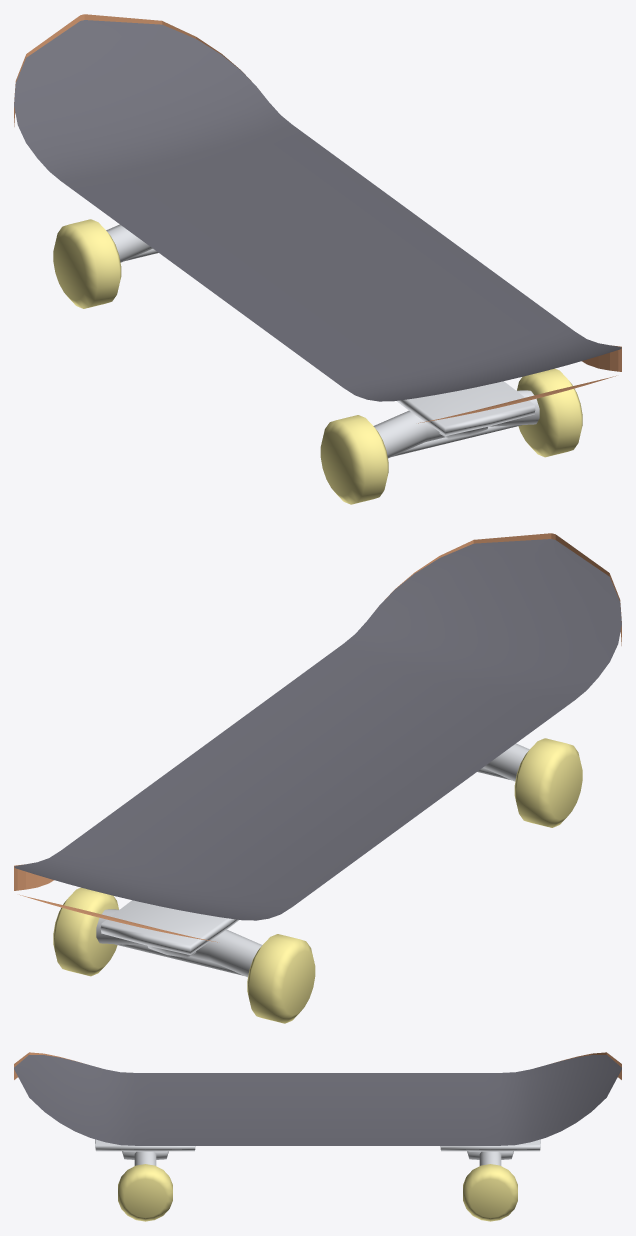
File: SkateBoard.glb
3 views of the same model, one above another, from view 1: azimuth 30°, elevation 25°; view 2: azimuth 150°, elevation 25°; view 3: azimuth 270°, elevation 25° (orthographic). The views are drawn at different scales.
Parts seen in each view (by area): view 1: Grip, Wheels, Trucks, Deck; view 2: Grip, Wheels, Trucks, Deck; view 3: Grip, Wheels, Trucks, Deck.
Part boxes in pixels (x1,y1,x2,y2): Grip: [14, 20, 621, 401]; Wheels: [53, 219, 582, 504]; Trucks: [106, 224, 539, 458]; Deck: [14, 14, 621, 423]; Grip: [14, 539, 621, 920]; Wheels: [53, 738, 582, 1023]; Trucks: [96, 743, 529, 977]; Deck: [14, 533, 621, 942]; Grip: [14, 1055, 621, 1145]; Wheels: [118, 1164, 517, 1221]; Trucks: [95, 1139, 540, 1165]; Deck: [14, 1052, 621, 1079].
Bounding box in the file's own units: 1.05 × 0.825 × 3.7.
